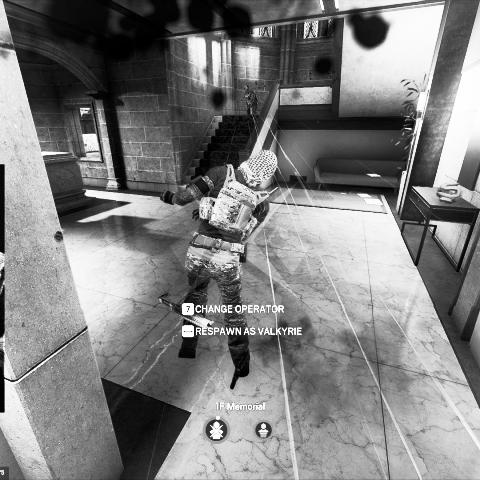Character: (158, 148, 280, 378), (242, 85, 260, 118)
Head: (240, 149, 279, 186), (244, 85, 250, 94)
